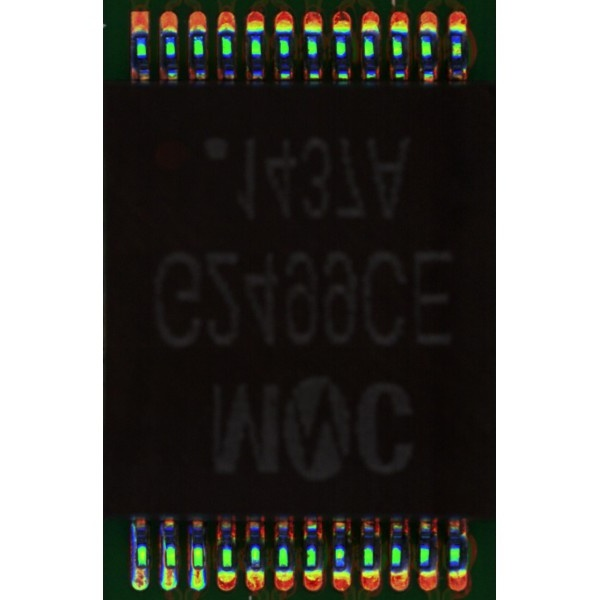Bad_podu: (193, 559, 203, 577), (166, 560, 174, 579), (138, 563, 146, 576)
Bad_qiaojiao: (131, 523, 136, 566), (161, 526, 165, 567), (190, 535, 194, 569)
